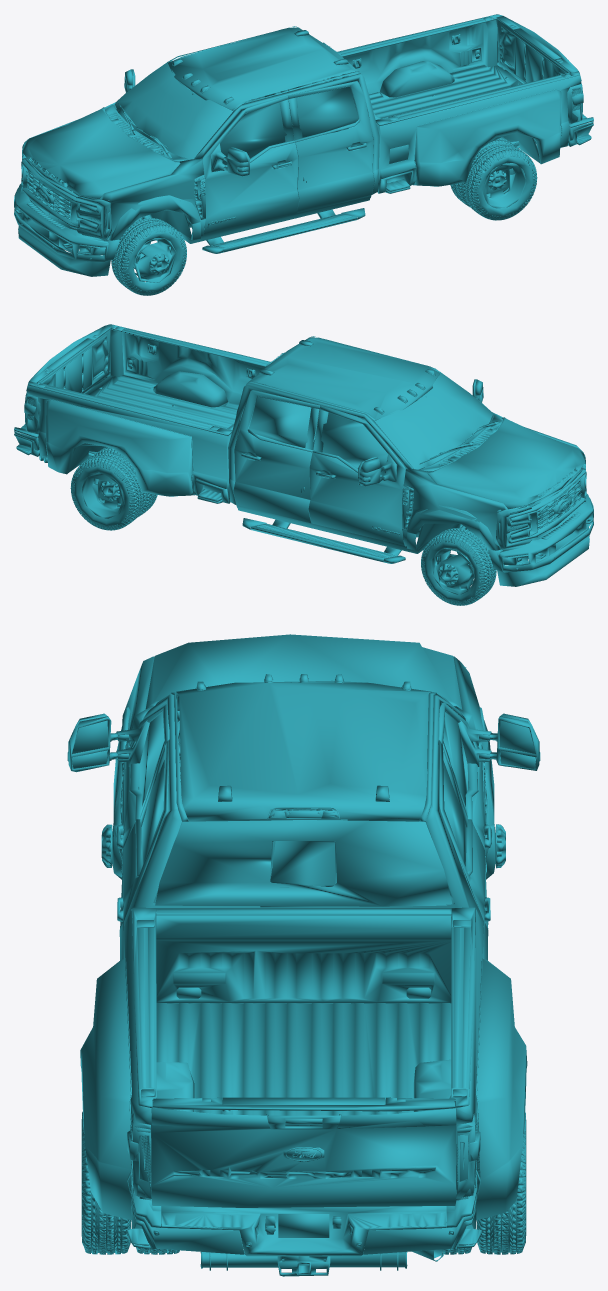
3 views of the same model, one above another, from view 1: azimuth 30°, elevation 25°; view 2: azimuth 150°, elevation 25°; view 3: azimuth 270°, elevation 25° (orthographic). The views are drawn at different scales.
Parts seen in each view (by area): view 1: Base_01, Base_02, Base_17, Base_08, Base_07, Base_19, Base_18, Base_09, Base_03, Base_06, Base_10; view 2: Base_01, Base_02, Base_17, Base_08, Base_07, Base_20, Base_21, Base_09, Base_03, Base_06, Base_10; view 3: Base_02, Base_01, Base_17, Base_08, Base_10, Base_03, Base_20, Base_19, Base_05.
Boxes of the visible parts, bbox=[...] form: Base_01: bbox=[14, 26, 379, 276]; Base_02: bbox=[337, 14, 593, 193]; Base_17: bbox=[115, 62, 372, 164]; Base_08: bbox=[111, 137, 537, 295]; Base_07: bbox=[69, 163, 526, 282]; Base_19: bbox=[451, 139, 536, 219]; Base_18: bbox=[112, 223, 186, 294]; Base_09: bbox=[14, 59, 234, 255]; Base_03: bbox=[73, 133, 539, 244]; Base_06: bbox=[21, 102, 289, 259]; Base_10: bbox=[323, 42, 583, 123]; Base_01: bbox=[228, 336, 593, 586]; Base_02: bbox=[14, 324, 270, 503]; Base_17: bbox=[236, 372, 492, 474]; Base_08: bbox=[70, 447, 496, 605]; Base_07: bbox=[82, 472, 537, 594]; Base_20: bbox=[71, 452, 151, 529]; Base_21: bbox=[421, 529, 495, 604]; Base_09: bbox=[373, 369, 593, 565]; Base_03: bbox=[39, 443, 534, 554]; Base_06: bbox=[318, 425, 586, 569]; Base_10: bbox=[24, 352, 284, 433]; Base_02: bbox=[80, 907, 527, 1256]; Base_01: bbox=[67, 634, 540, 960]; Base_17: bbox=[139, 680, 467, 906]; Base_08: bbox=[82, 824, 525, 1254]; Base_10: bbox=[127, 807, 480, 1198]; Base_03: bbox=[200, 1249, 450, 1276]; Base_20: bbox=[442, 1112, 526, 1252]; Base_19: bbox=[81, 1112, 173, 1252]; Base_05: bbox=[153, 987, 454, 1246].
Bounding box in the file's own units: 6894 × 2102 × 2712.
